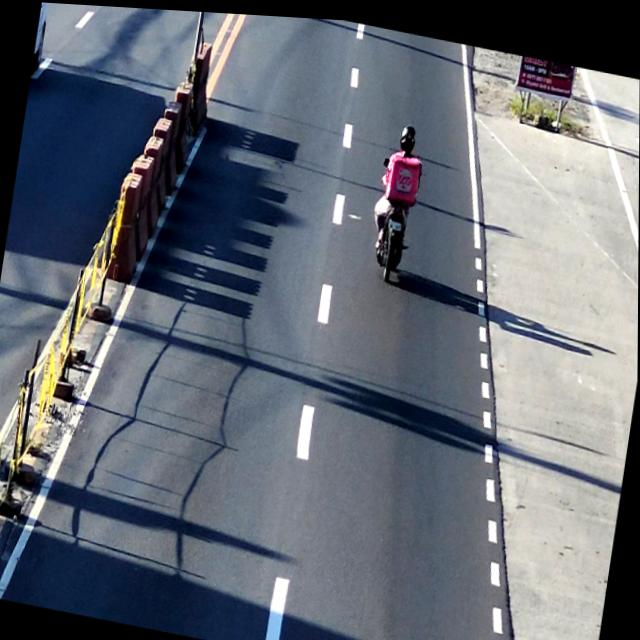Motorcycle: (365, 115, 428, 287)
